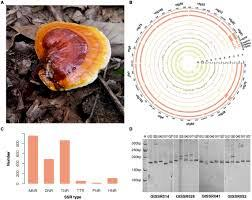Ganoderma - Fruit Body: (31, 20, 114, 94)
